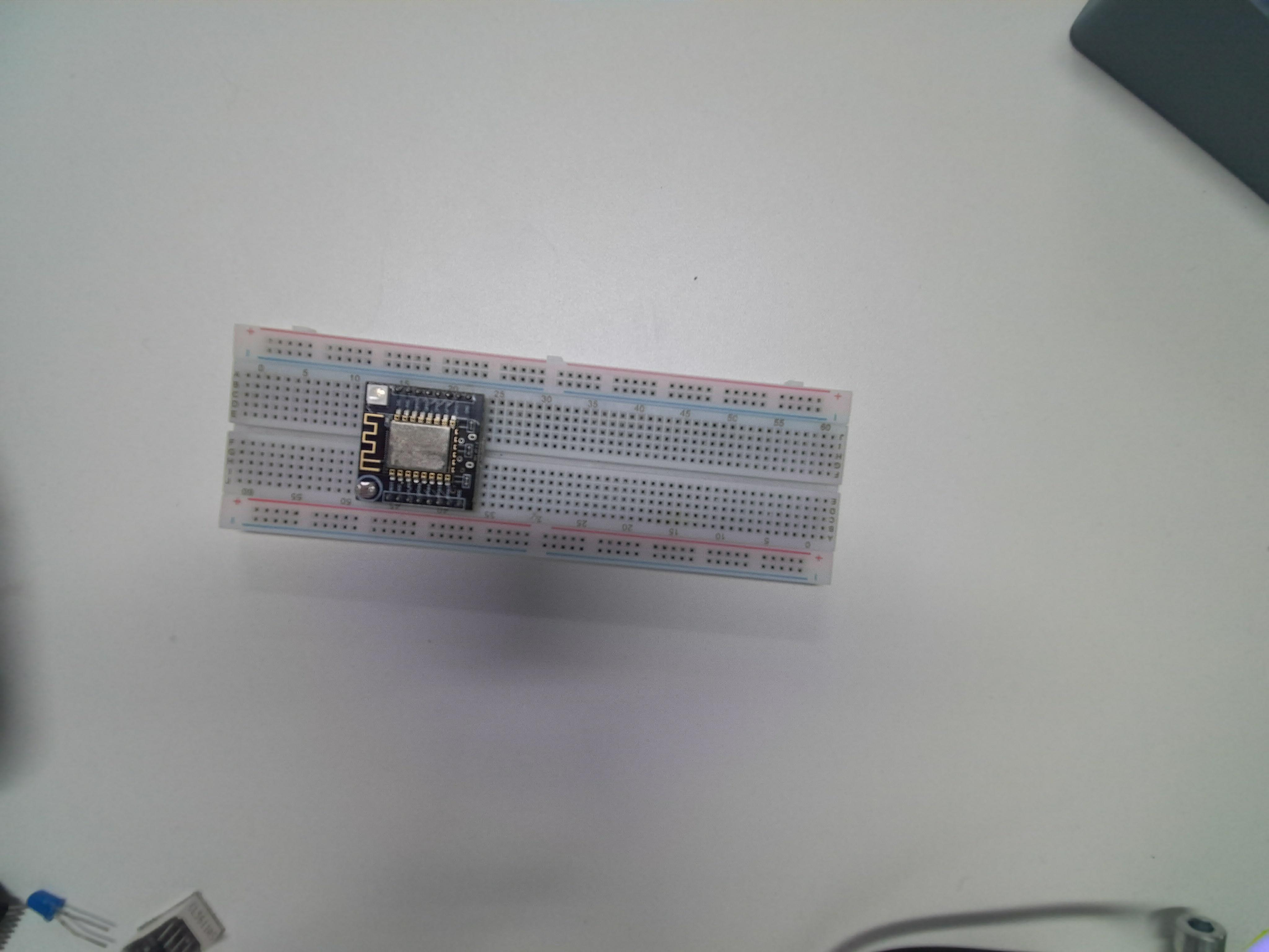base: (218, 322, 856, 590)
blue-led: (26, 888, 65, 920)
esp: (353, 379, 486, 512)
